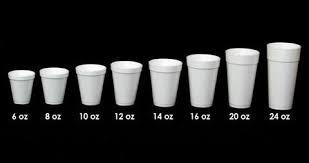Plastic cup: (3, 1, 309, 163)
